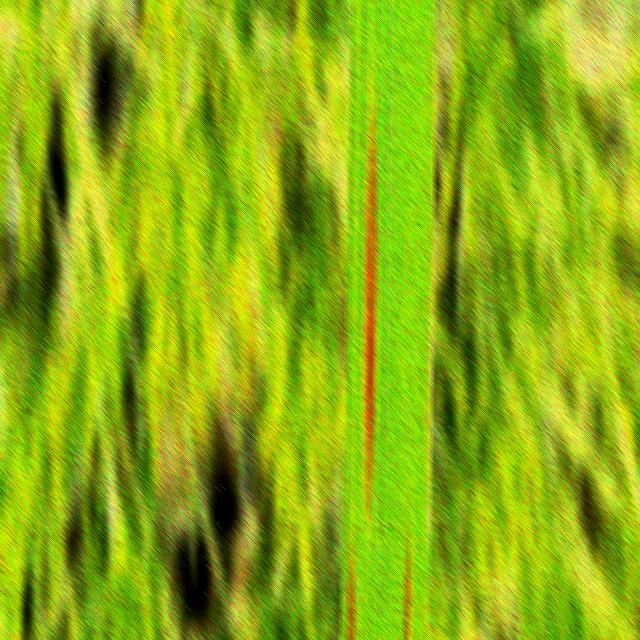NBS: (362, 108, 377, 517), (345, 548, 355, 640), (402, 534, 410, 640)
